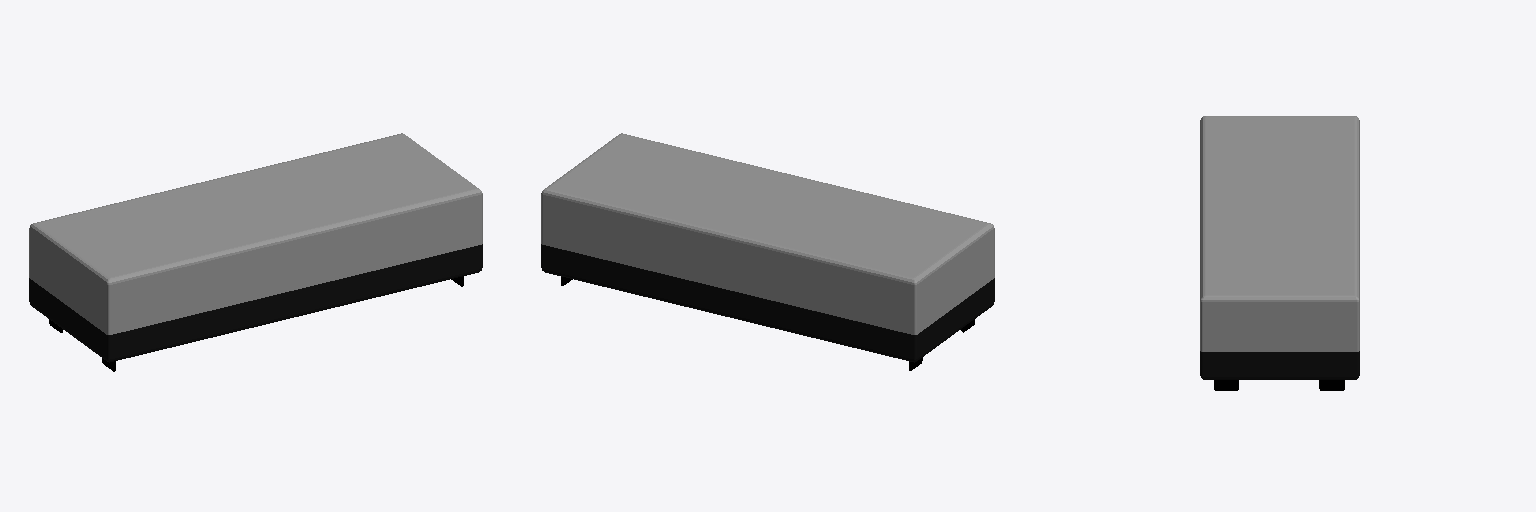
Rendered from Chocofur_Free_Sofa_Modular_04.obj.
3 renders of one model, left to right at view 1: azimuth 30°, elevation 25°; view 2: azimuth 150°, elevation 25°; view 3: azimuth 270°, elevation 25°, orthographic.
Visible parts, largest first — view 1: Chocofur_Free_Sofa_Modular_04; view 2: Chocofur_Free_Sofa_Modular_04; view 3: Chocofur_Free_Sofa_Modular_04.
Boxes of the visible parts, box(x1,y1,x2,y2) form: Chocofur_Free_Sofa_Modular_04: box(29, 133, 482, 371); Chocofur_Free_Sofa_Modular_04: box(541, 133, 994, 370); Chocofur_Free_Sofa_Modular_04: box(1200, 116, 1359, 390).
Size of the model in its own units: 1.67 by 0.4238 by 0.6134.